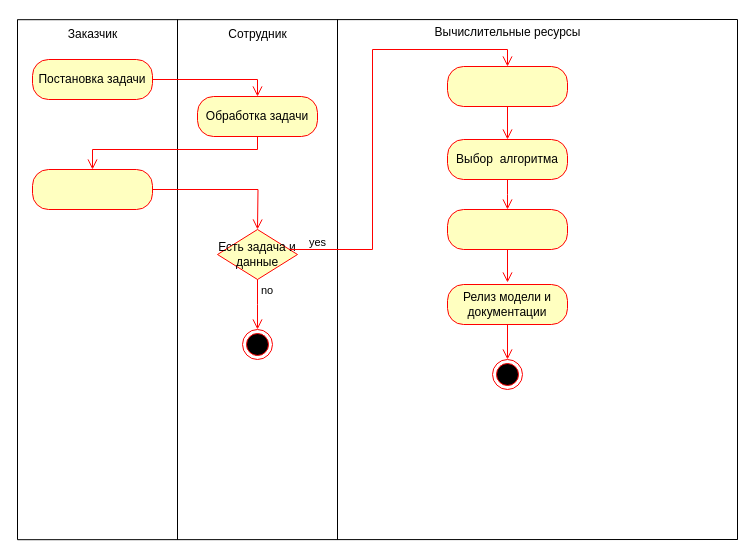
Some shapes in this 756 by 558 pixel diagram are drawn without their labels. The shapes that lost their labels are listed below. From the top down, each one's centre as x and y in pixels, then its label:
the point at 507,86: Подготовка датасета
the point at 92,189: Загрузка данных
the point at 507,229: Обучение модели
